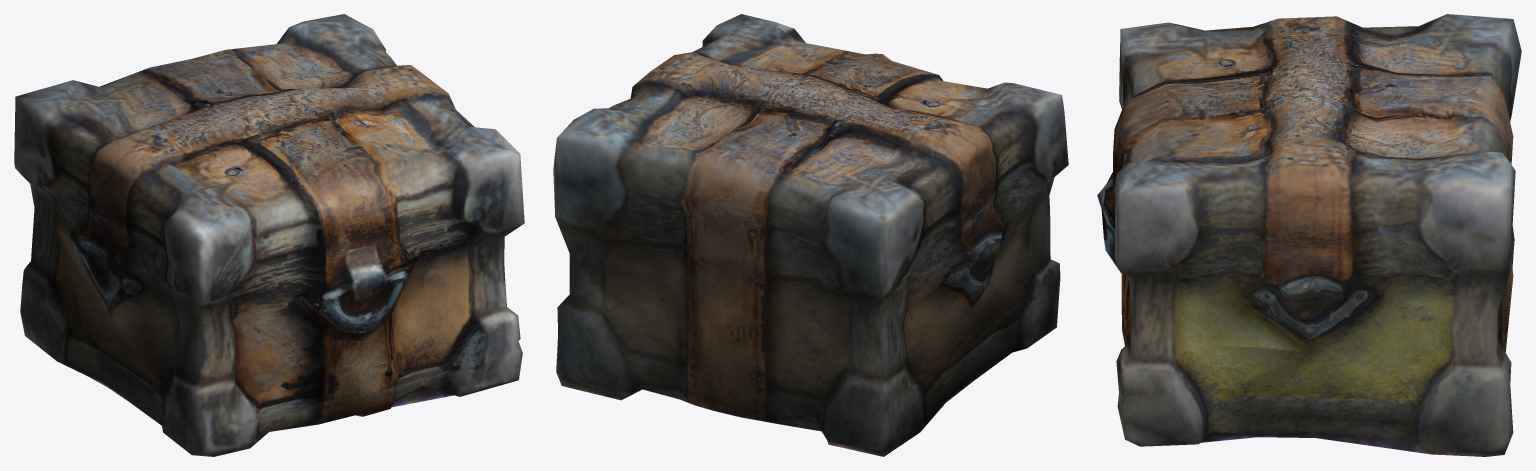
File: chest.fbx
3 views of the same model, side by side, from view 1: azimuth 30°, elevation 25°; view 2: azimuth 150°, elevation 25°; view 3: azimuth 270°, elevation 25° (orthographic). The views are drawn at different scales.
Visible parts, largest first — view 1: Mesh_0; view 2: Mesh_0; view 3: Mesh_0.
Part boxes in pixels (x1=…): Mesh_0: x1=14, y1=14, x2=524, y2=456; Mesh_0: x1=553, y1=14, x2=1068, y2=456; Mesh_0: x1=1097, y1=14, x2=1521, y2=456.
Size of the model in its own units: 120 by 87.81 by 114.
1 material, 1 textured.
